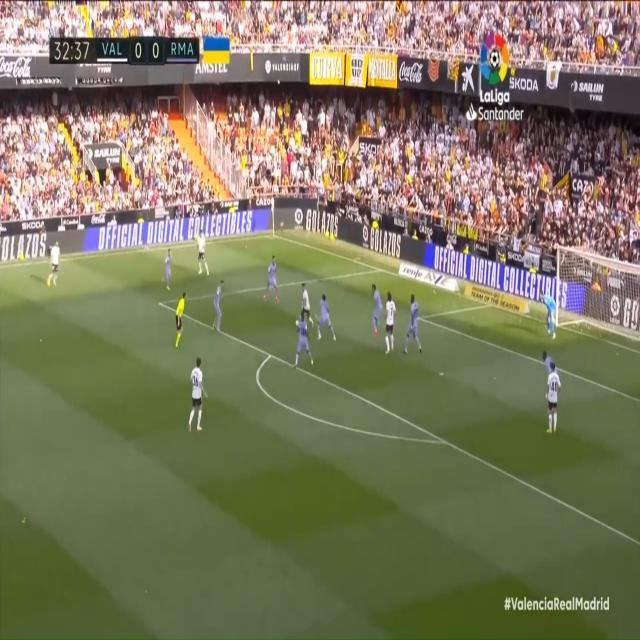ball: (296, 318, 300, 328)
goalkeeper: (541, 290, 564, 338)
player: (187, 356, 207, 440), (406, 288, 426, 363), (317, 288, 340, 353), (544, 364, 565, 433), (208, 279, 228, 346), (381, 288, 400, 354), (298, 284, 321, 338), (368, 282, 386, 347), (265, 241, 281, 314), (295, 310, 312, 372), (195, 222, 211, 284), (48, 242, 70, 287), (538, 349, 556, 397), (164, 244, 177, 291)
referee: (174, 290, 190, 368)
